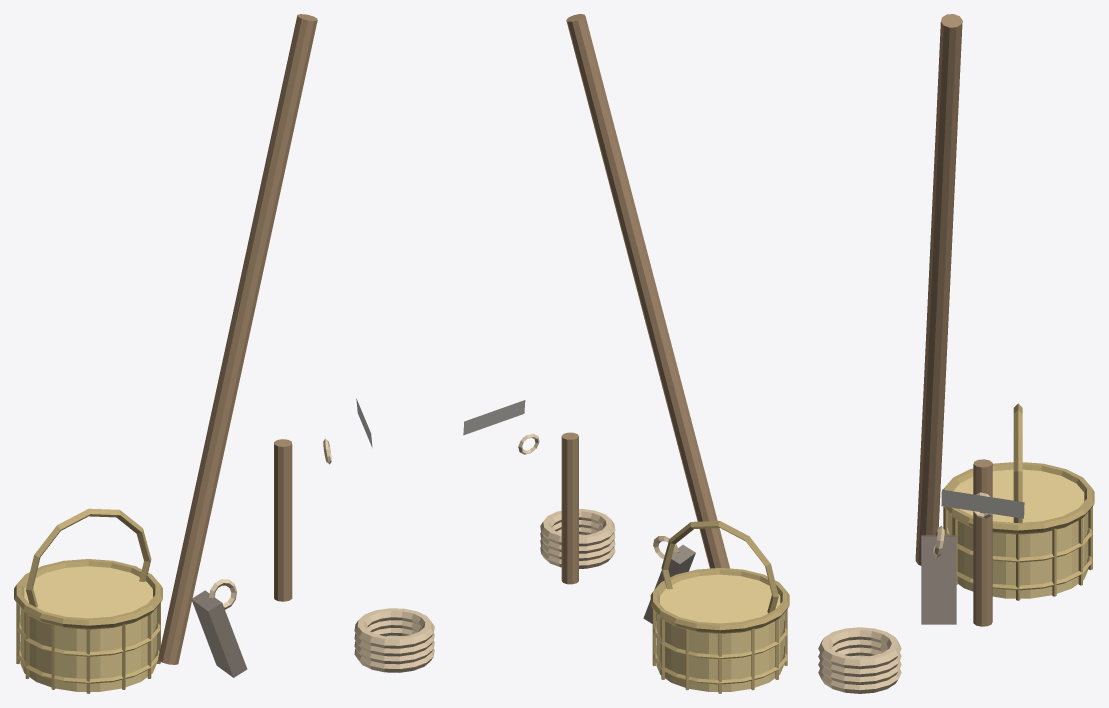
File: farmer_tools.glb
3 views of the same model, side by side, from view 1: azimuth 30°, elevation 25°; view 2: azimuth 150°, elevation 25°; view 3: azimuth 270°, elevation 25° (orthographic). The views are drawn at different scales.
Visible parts, largest first — view 1: farmer_tools; view 2: farmer_tools; view 3: farmer_tools.
Boxes of the visible parts, left/top/right/bottom form: farmer_tools: left=14, top=14, right=434, bottom=693; farmer_tools: left=463, top=14, right=789, bottom=693; farmer_tools: left=818, top=14, right=1094, bottom=693.
Size of the model in its own units: 0.9128 by 1.63 by 0.6293.
